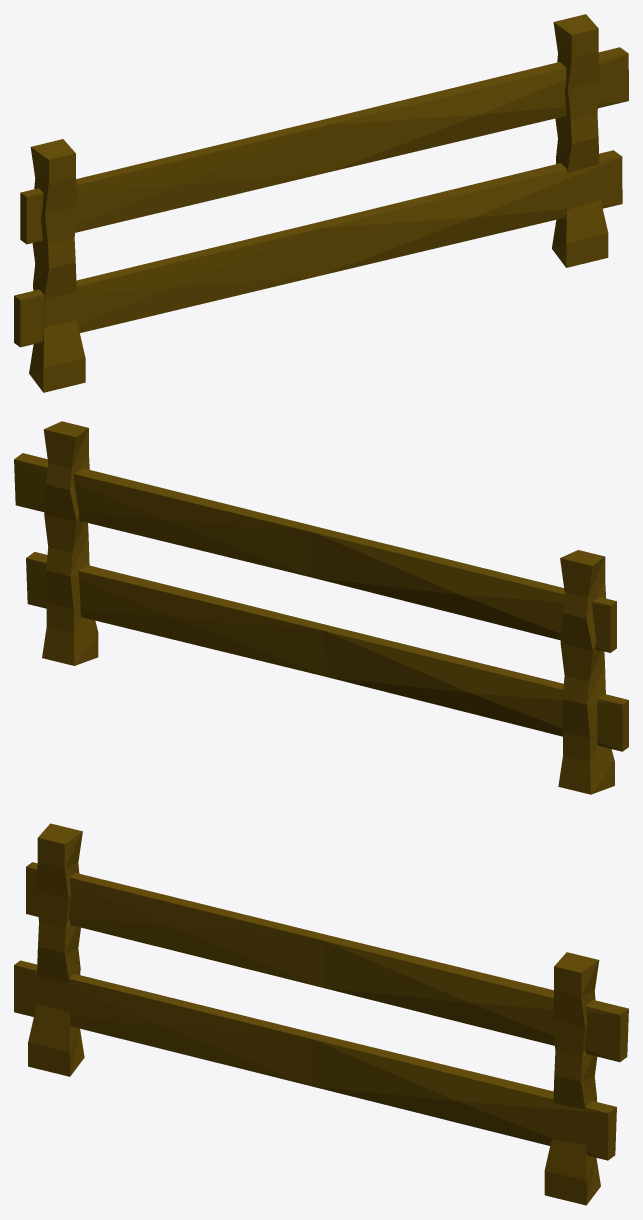
File: barda madera.FBX
3 views of the same model, one above another, from view 1: azimuth 30°, elevation 25°; view 2: azimuth 150°, elevation 25°; view 3: azimuth 330°, elevation 25° (orthographic).
Visible parts, largest first — view 1: barda_madera; view 2: barda_madera; view 3: barda_madera.
Boxes of the visible parts, x1,y1,x2,y2 form: barda_madera: (14,14,628,392); barda_madera: (14,421,628,794); barda_madera: (14,823,628,1205).
Size of the model in its own units: 735 by 268 by 46.06.
